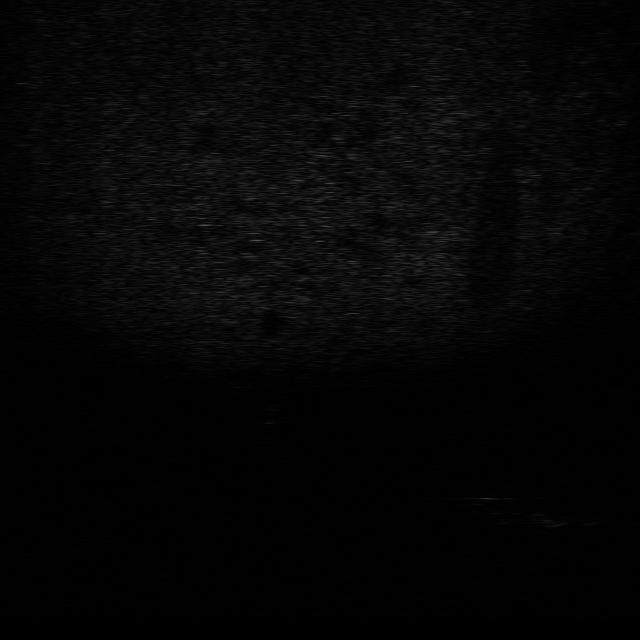ball: (254, 404, 288, 427)
metal bucket: (525, 506, 595, 534)
tyre: (472, 492, 526, 526)
